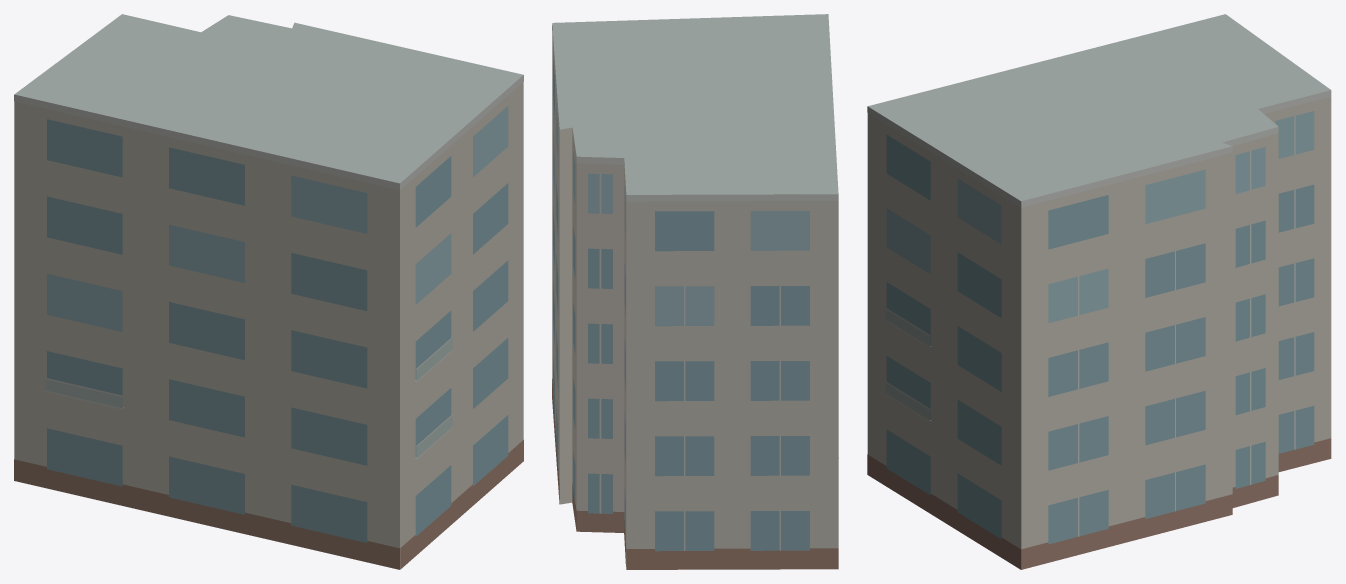
Rendered from survey-upis-32591515.glb.
3 views of the same model, side by side, from view 1: azimuth 30°, elevation 25°; view 2: azimuth 150°, elevation 25°; view 3: azimuth 270°, elevation 25° (orthographic). The views are drawn at different scales.
Parts seen in each view (by area): view 1: survey-upis-32591515.tmp; view 2: survey-upis-32591515.tmp; view 3: survey-upis-32591515.tmp.
Boxes of the visible parts, x1,y1,x2,y2 form: survey-upis-32591515.tmp: [14, 14, 523, 569]; survey-upis-32591515.tmp: [552, 14, 838, 569]; survey-upis-32591515.tmp: [867, 14, 1331, 569].
Size of the model in its own units: 15.05 by 13.8 by 15.75.
